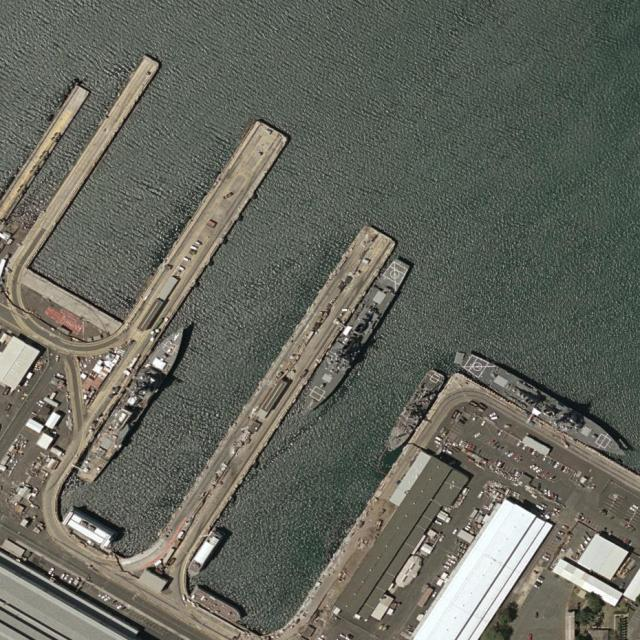Destroyer: (458, 348, 632, 468), (300, 253, 413, 416)
Dock: (160, 221, 401, 558), (125, 118, 292, 339), (14, 54, 162, 255)
Other Warship: (73, 316, 195, 491), (381, 364, 447, 455)
